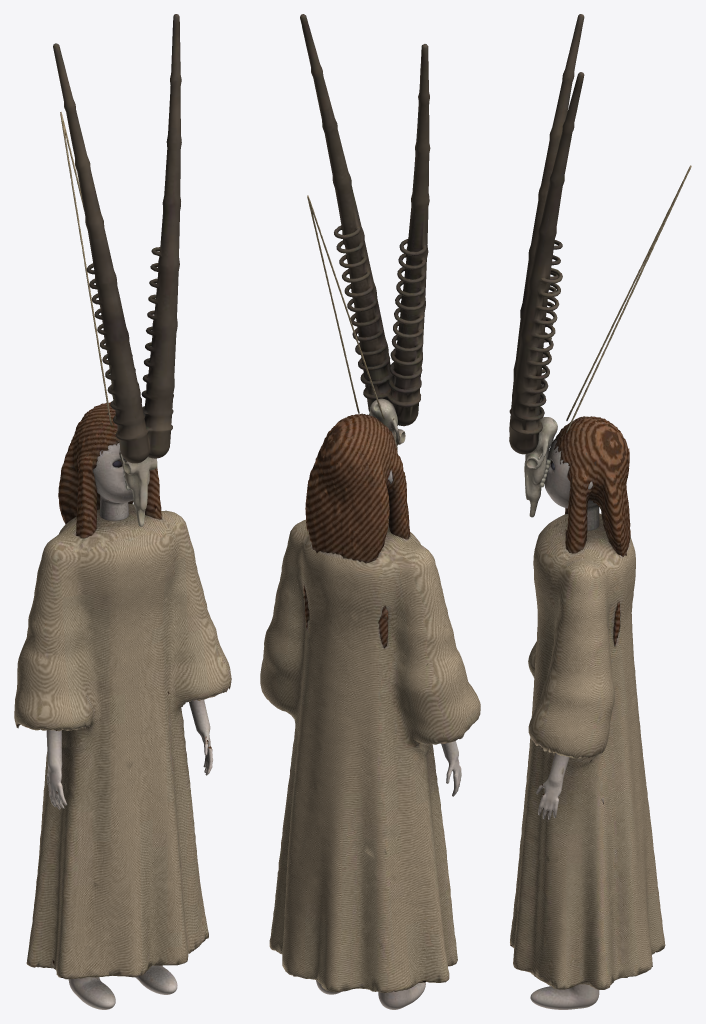
The model's file is horned_figure.glb.
3 views of the same model, side by side, from view 1: azimuth 30°, elevation 25°; view 2: azimuth 150°, elevation 25°; view 3: azimuth 270°, elevation 25° (orthographic). The views are drawn at different scales.
Parts seen in each view (by area): view 1: Horned_Figure_Dress, Oryx_Horns, Horned_Figure_Skin, Horned_Figure_Hair, Oryx_Skull_Bone, Oryx_Hanging_Twine; view 2: Horned_Figure_Dress, Oryx_Horns, Horned_Figure_Hair, Horned_Figure_Skin, Oryx_Hanging_Twine, Oryx_Skull_Bone; view 3: Horned_Figure_Dress, Oryx_Horns, Horned_Figure_Hair, Horned_Figure_Skin, Oryx_Skull_Bone, Oryx_Hanging_Twine.
Boxes of the visible parts, x1,y1,x2,y2 form: Horned_Figure_Dress: (14, 504, 231, 979); Oryx_Horns: (53, 14, 181, 463); Horned_Figure_Skin: (46, 441, 212, 1009); Horned_Figure_Hair: (58, 402, 162, 538); Oryx_Skull_Bone: (119, 447, 157, 526); Oryx_Hanging_Twine: (60, 112, 111, 425); Horned_Figure_Dress: (260, 519, 480, 993); Oryx_Horns: (300, 14, 430, 426); Horned_Figure_Hair: (303, 413, 410, 648); Horned_Figure_Skin: (294, 450, 461, 1009); Oryx_Hanging_Twine: (307, 195, 384, 419); Oryx_Skull_Bone: (368, 398, 405, 451); Horned_Figure_Dress: (510, 513, 665, 989); Oryx_Horns: (509, 14, 584, 454); Horned_Figure_Hair: (550, 416, 630, 646); Horned_Figure_Skin: (530, 437, 599, 1009); Oryx_Skull_Bone: (524, 417, 557, 517); Oryx_Hanging_Twine: (566, 165, 691, 433).
Size of the model in its own units: 0.6635 by 2.95 by 0.5145.
Materials: 1 (1 with a texture image).
